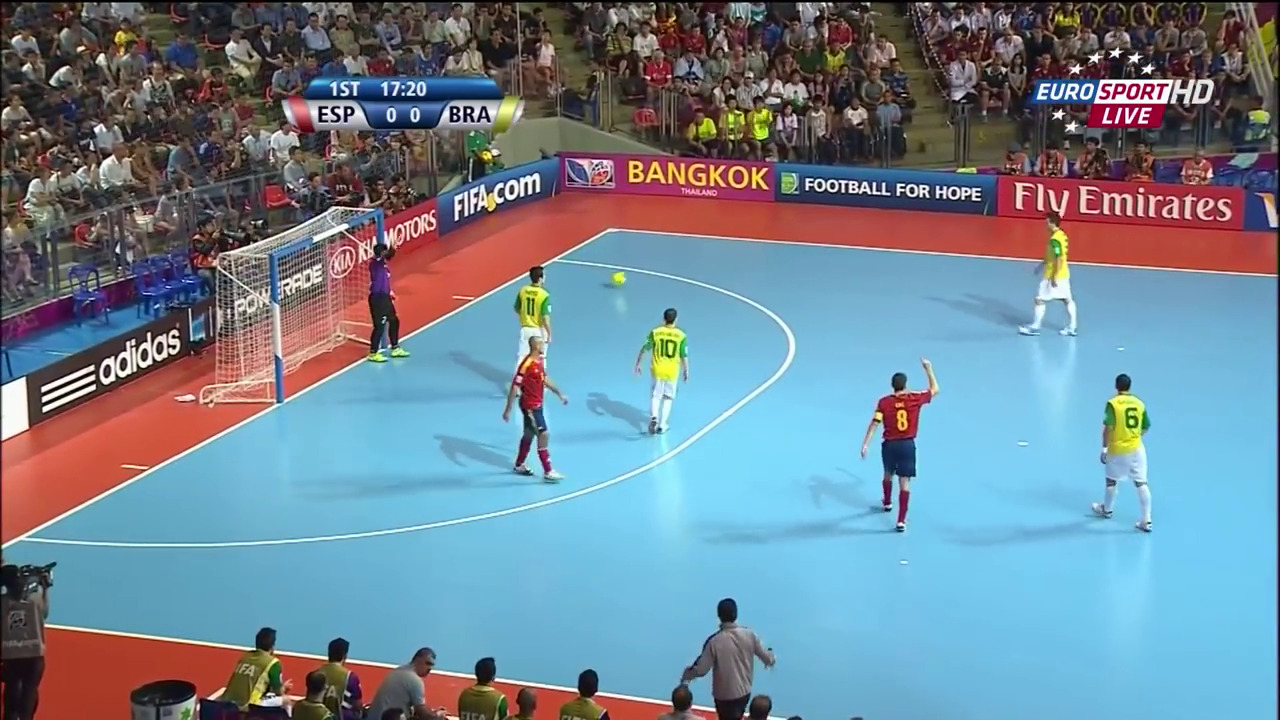ball: (607, 265, 630, 293)
person: (855, 352, 944, 538), (1079, 366, 1161, 532), (500, 331, 557, 473), (1020, 213, 1081, 344), (499, 260, 557, 390), (637, 300, 689, 441), (355, 244, 410, 376)
